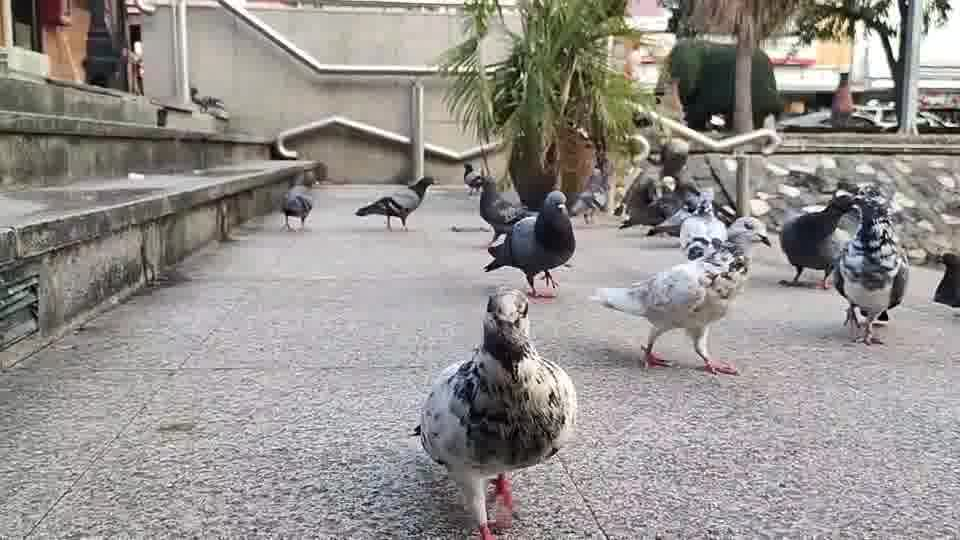Pigeon: (408, 284, 577, 538), (589, 238, 746, 376), (830, 186, 909, 345), (481, 189, 576, 298), (776, 188, 856, 289), (353, 175, 439, 232), (478, 174, 528, 244), (931, 251, 959, 313), (278, 188, 312, 232), (564, 189, 602, 224), (463, 162, 483, 195)
